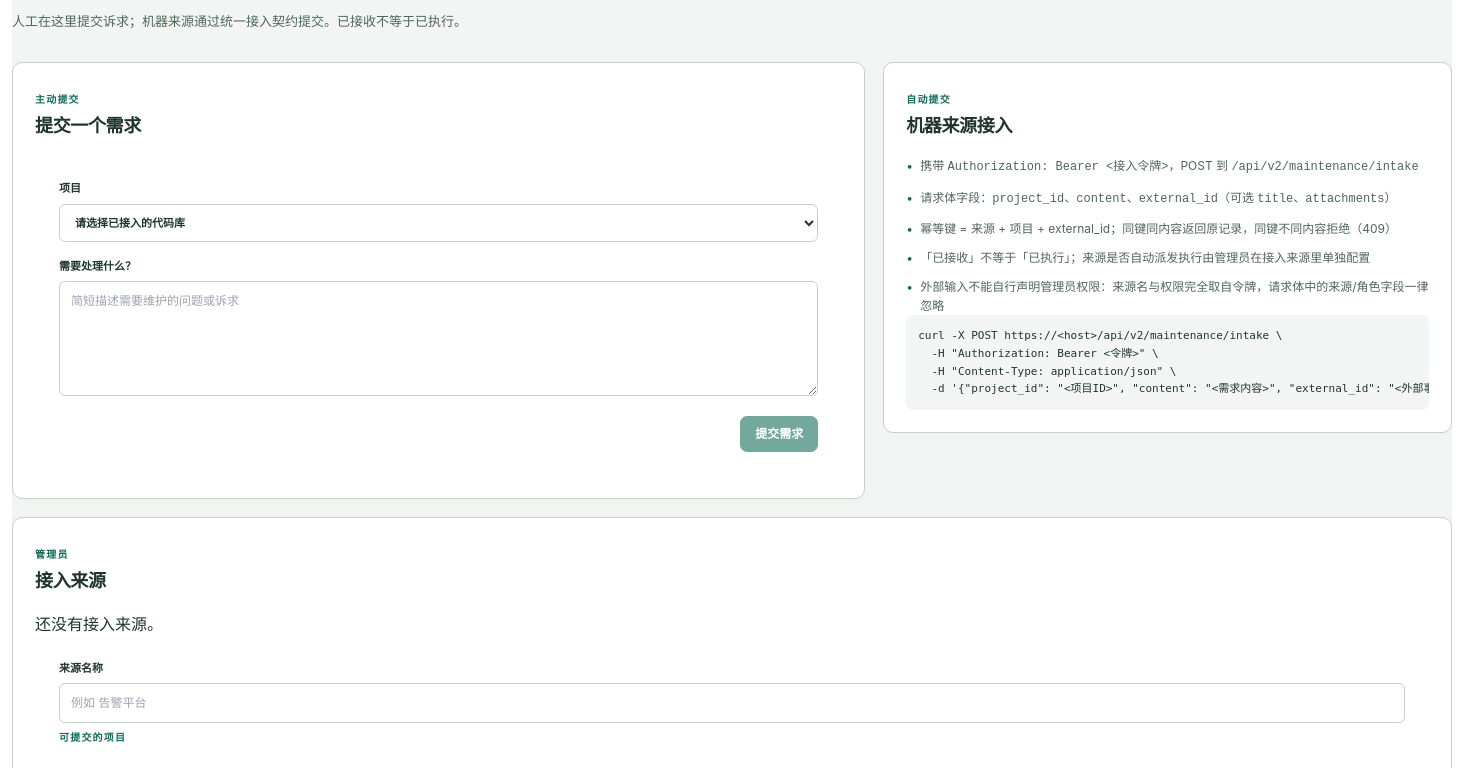
Scenario: 需求接入 · 权限 › admin 角色可以创建接入来源，令牌只显示一次
Type "告警平台" into the field with placeholder "例如 告警平台" at (732, 703), box [59, 683, 1405, 723]
(page scrolled)
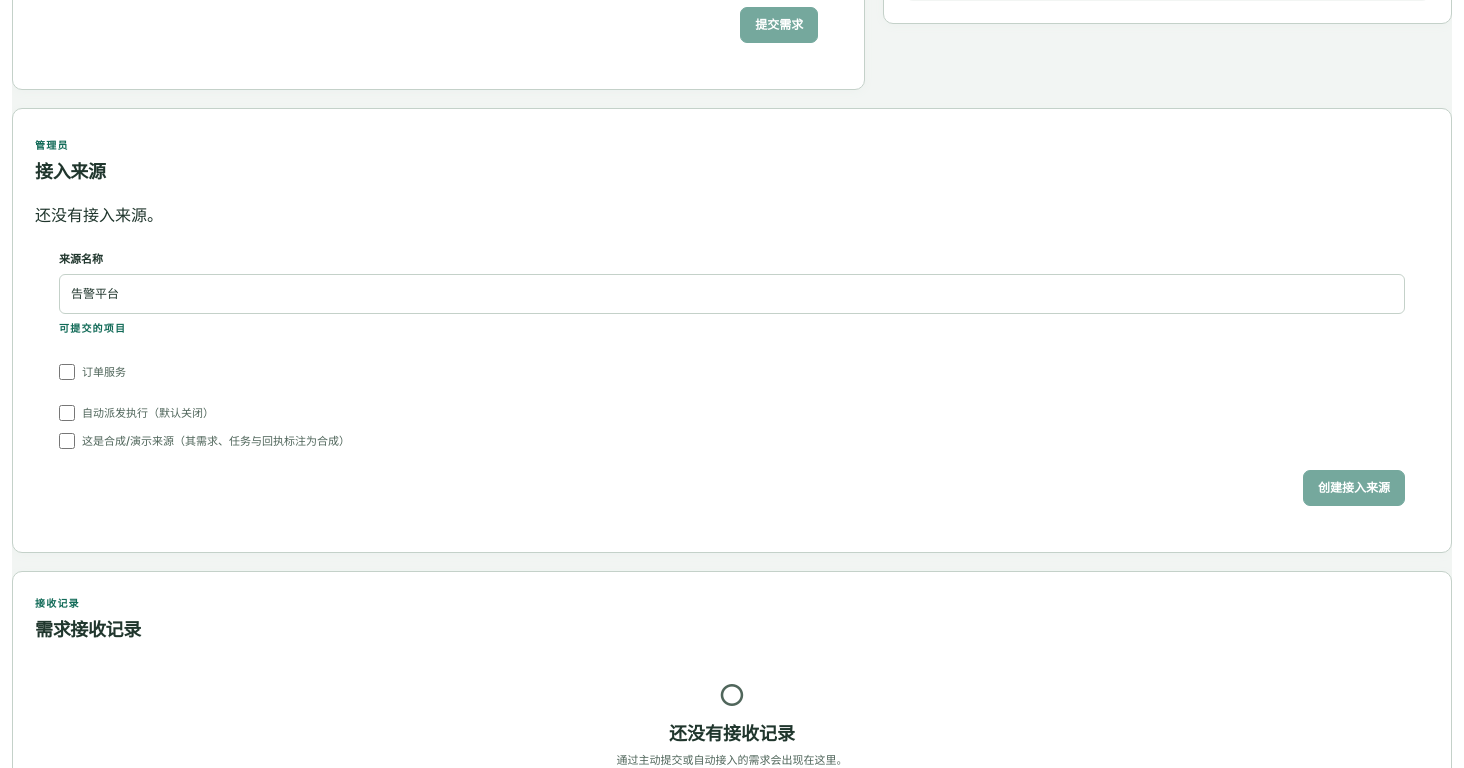
Click the checkbox labelled "订单服务" at (67, 372), box [59, 364, 75, 380]
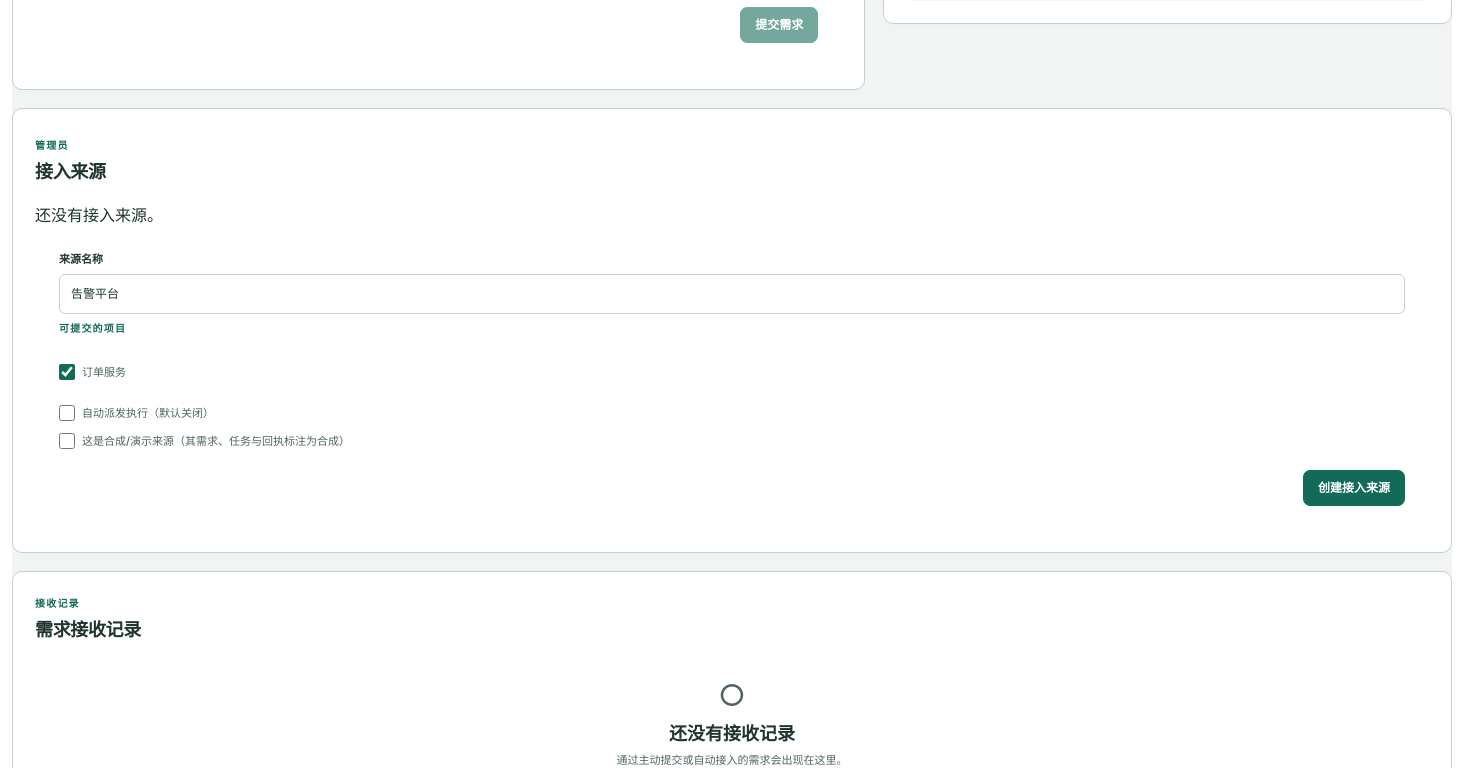
Click the button "创建接入来源" at (1354, 488), box [1303, 470, 1405, 506]
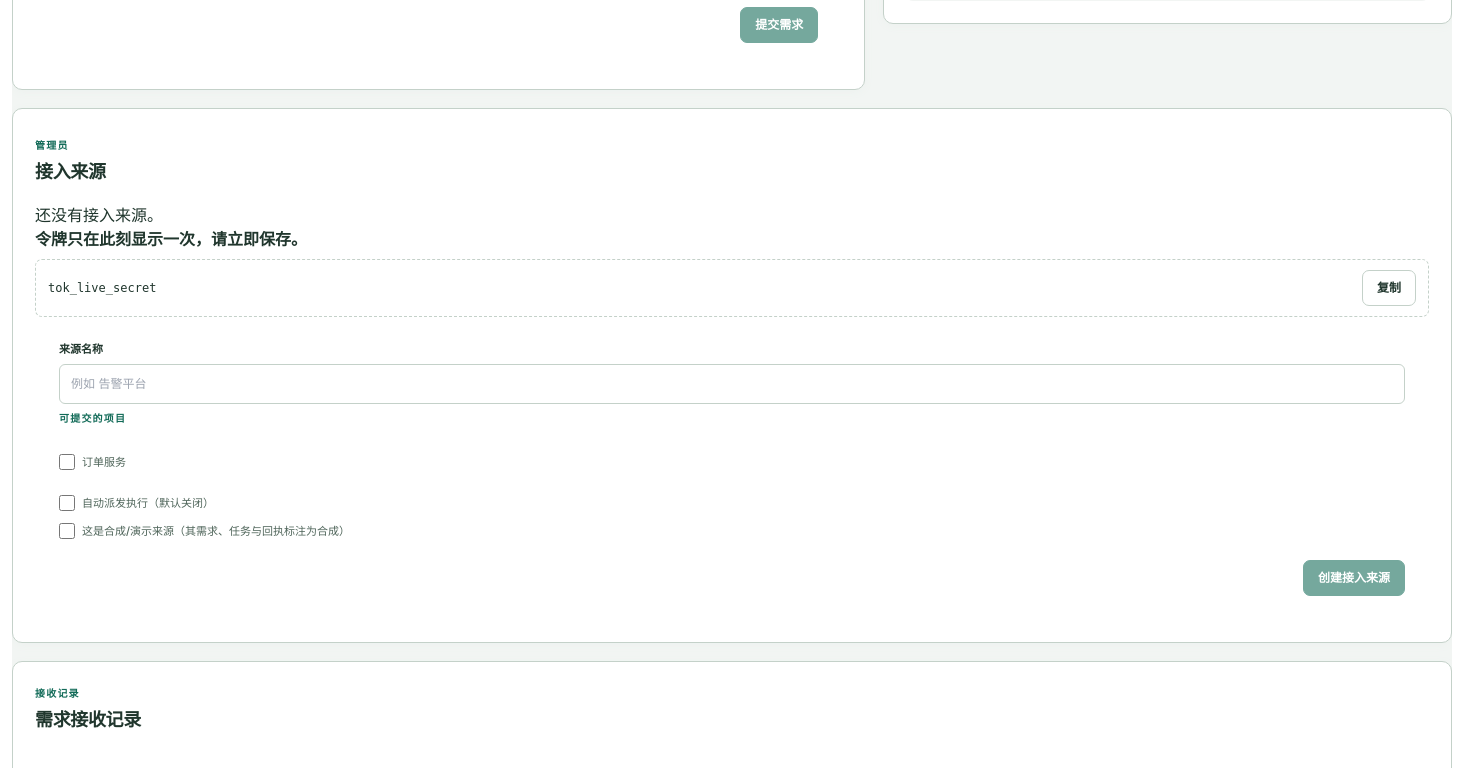
Expected: the message "令牌只在此刻显示一次，请立即保存。 tok_live_secret 复制" is shown, [35, 227, 1429, 317]
Expected: the message with test id "new-token-box" shows "tok_live_secret", [48, 281, 156, 295]
